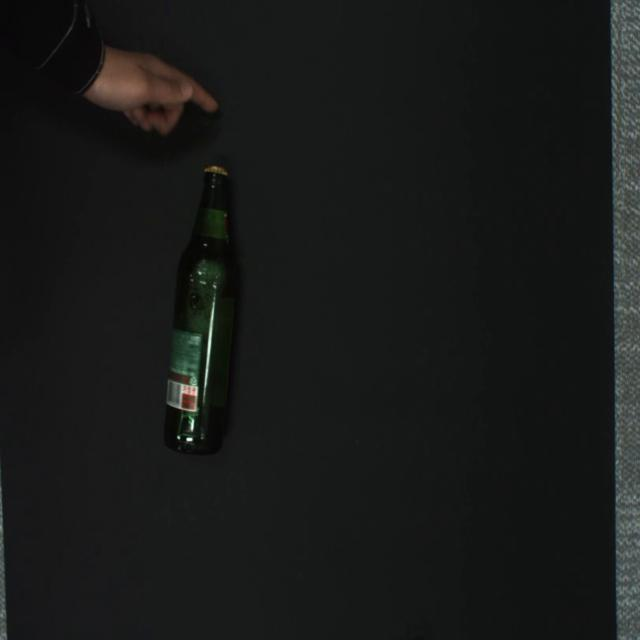beer-bottle: (164, 165, 237, 455)
